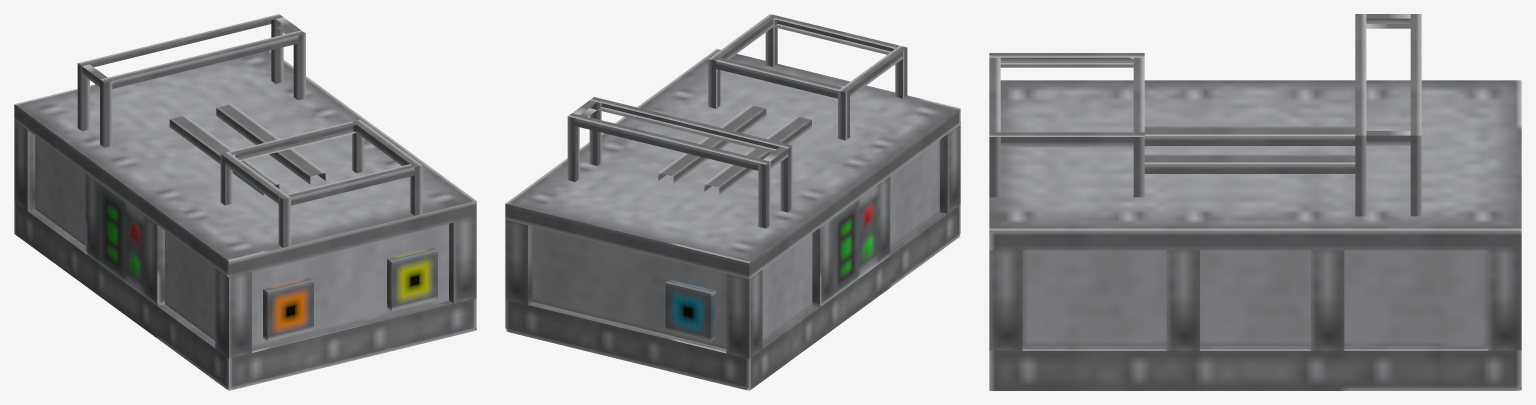
File: cuttingmachine.obj
3 renders of one model, left to right at view 1: azimuth 30°, elevation 25°; view 2: azimuth 150°, elevation 25°; view 3: azimuth 270°, elevation 25°, orthographic. The views are drawn at different scales.
Visible parts, largest first — view 1: Hull; view 2: Hull; view 3: Hull.
Part boxes in pixels (x1,y1,x2,y2): Hull: (14,14,476,390); Hull: (505,14,960,390); Hull: (989,14,1521,390).
Bounding box in the file's own units: 2 × 1.51 × 3.
